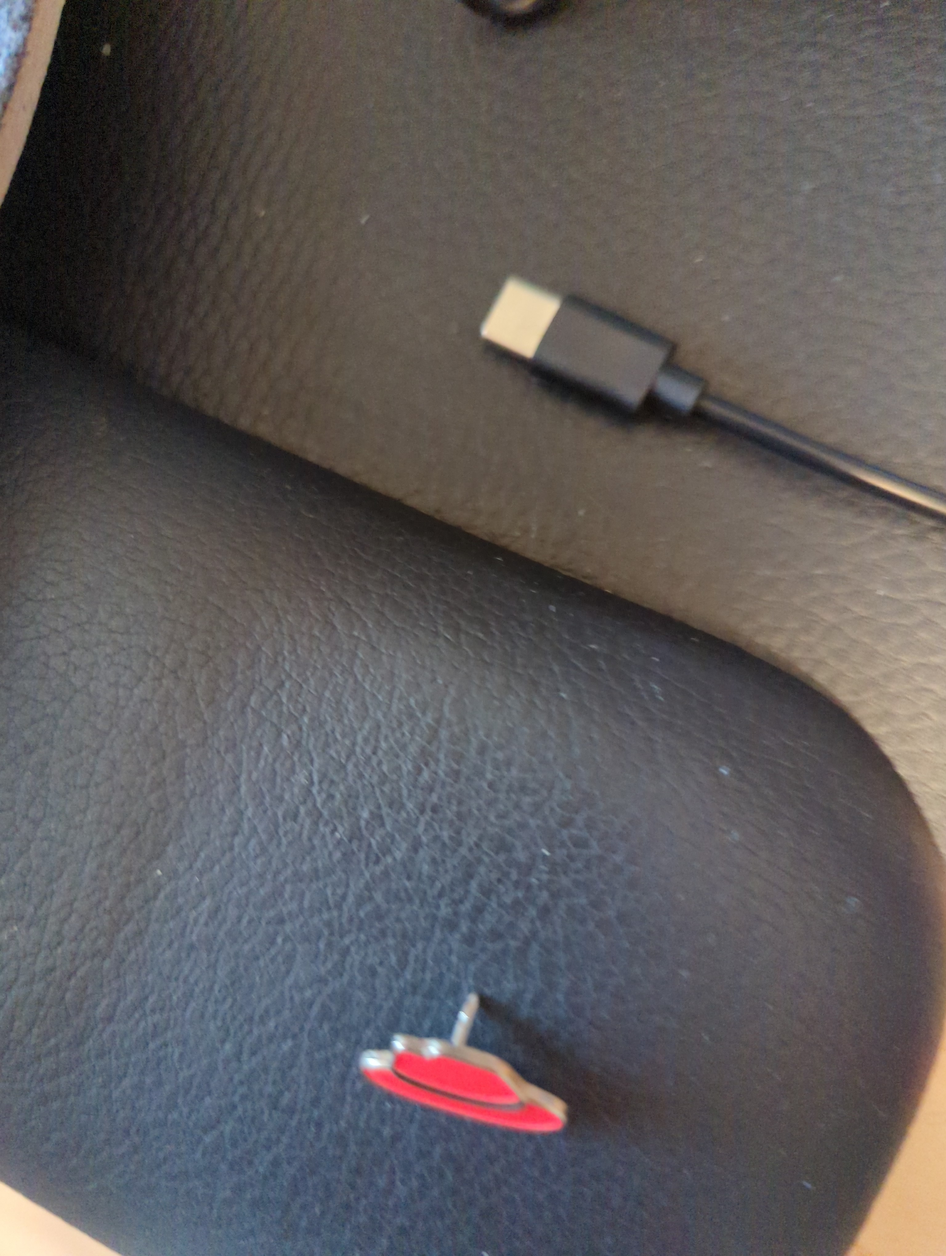Red-Hat: (269, 895, 666, 1230)
